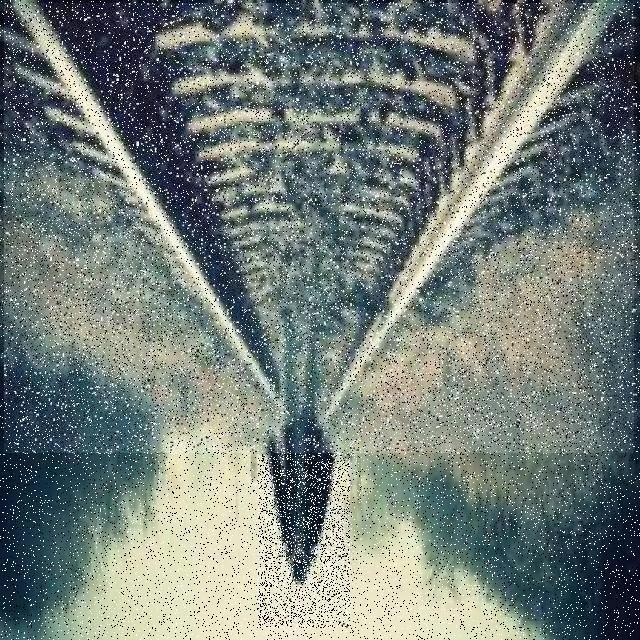rail: (5, 4, 635, 454)
